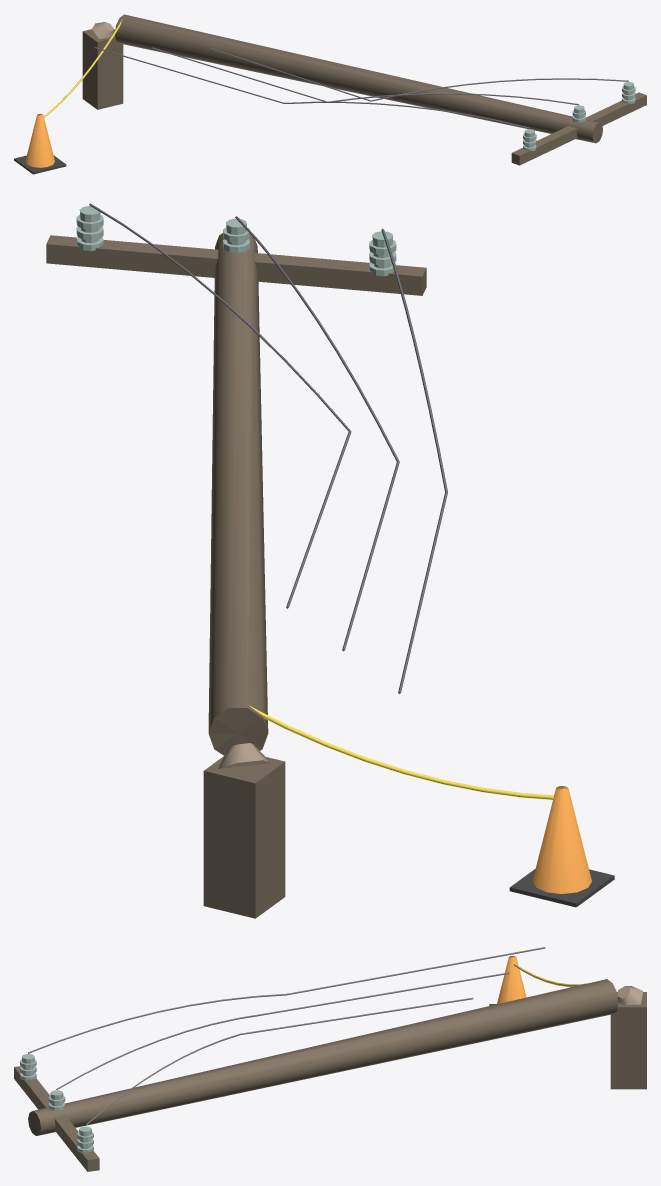
File: storm_power_line_a.glb
3 renders of one model, top to bottom at view 1: azimuth 30°, elevation 25°; view 2: azimuth 150°, elevation 25°; view 3: azimuth 270°, elevation 25°, orthographic. The views are drawn at different scales.
Parts seen in each view (by area): view 1: body; view 2: body; view 3: body.
Boxes of the visible parts, box(x1,y1,x2,y2) form: body: box(14, 14, 646, 174); body: box(46, 203, 614, 918); body: box(14, 947, 646, 1171).
Bounding box in the file's own units: 4.85 × 1.18 × 4.9.
